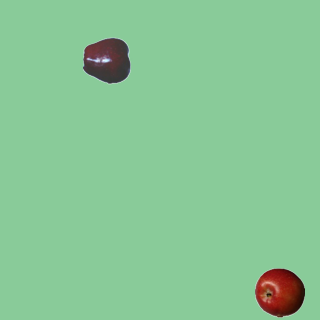Apple Braeburn: (254, 267, 304, 317)
Apple Red Delicious: (82, 35, 132, 85)
